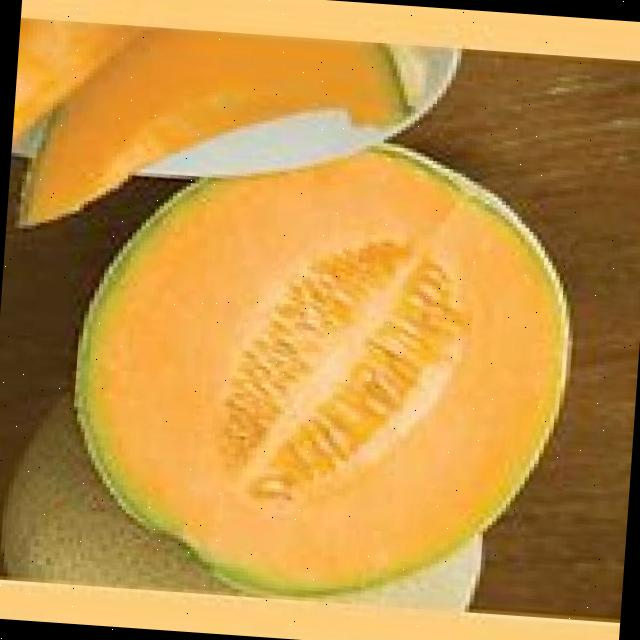Hami Melon: (65, 121, 580, 611)
